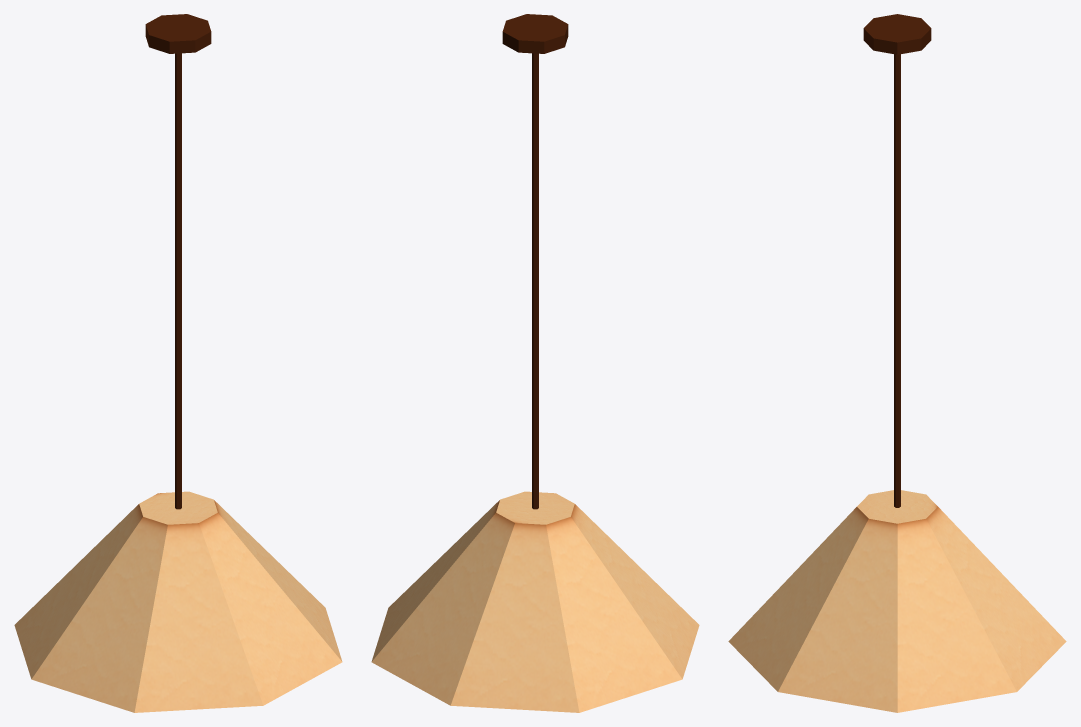
Rendered from Lamp_Pendant.fbx.
The picture shows the model from 3 angles, left to right: view 1: azimuth 30°, elevation 25°; view 2: azimuth 150°, elevation 25°; view 3: azimuth 270°, elevation 25°; orthographic projection.
Parts seen in each view (by area): view 1: Lamp_Pendant; view 2: Lamp_Pendant; view 3: Lamp_Pendant.
Part boxes in pixels (x1=…): Lamp_Pendant: x1=14, y1=14, x2=342, y2=712; Lamp_Pendant: x1=371, y1=14, x2=699, y2=712; Lamp_Pendant: x1=728, y1=14, x2=1066, y2=712.
Bounding box in the file's own units: 0.5 × 1 × 0.5.
